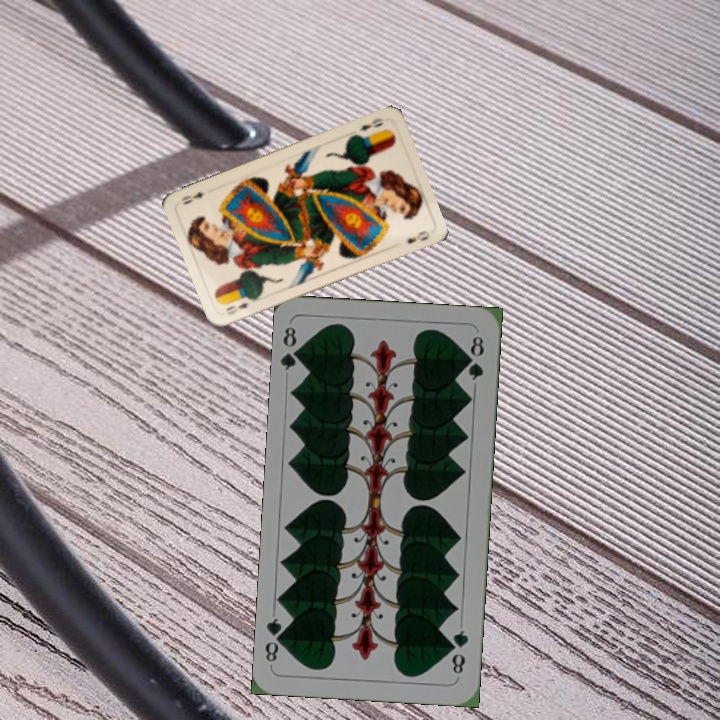EO: (355, 113, 386, 134), (221, 298, 252, 317)
G8: (277, 323, 306, 373), (446, 626, 471, 677)
